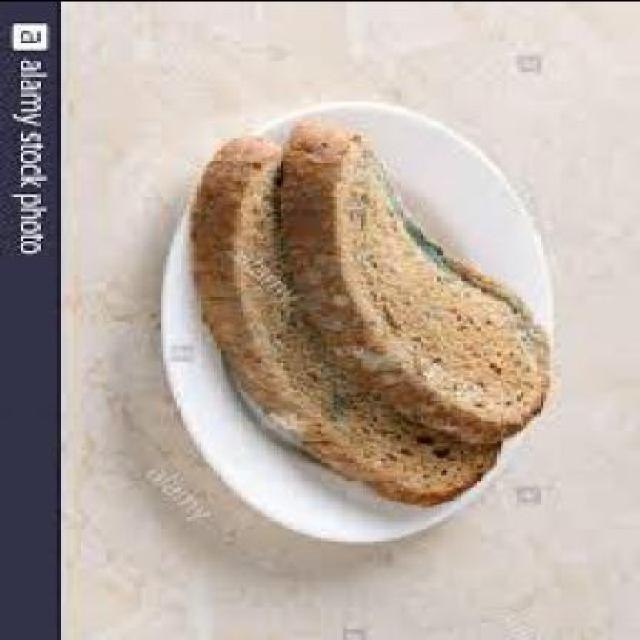BIODEGRADABLE: (187, 137, 503, 506), (277, 117, 551, 445)
